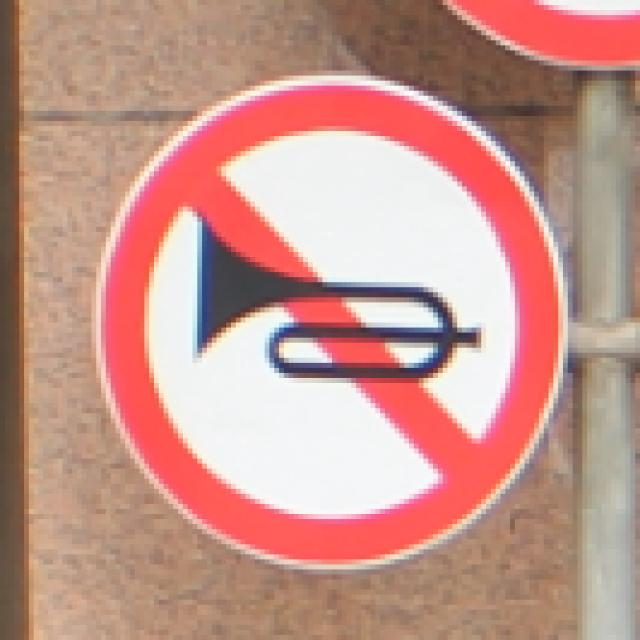No Horn: (95, 77, 556, 567)
